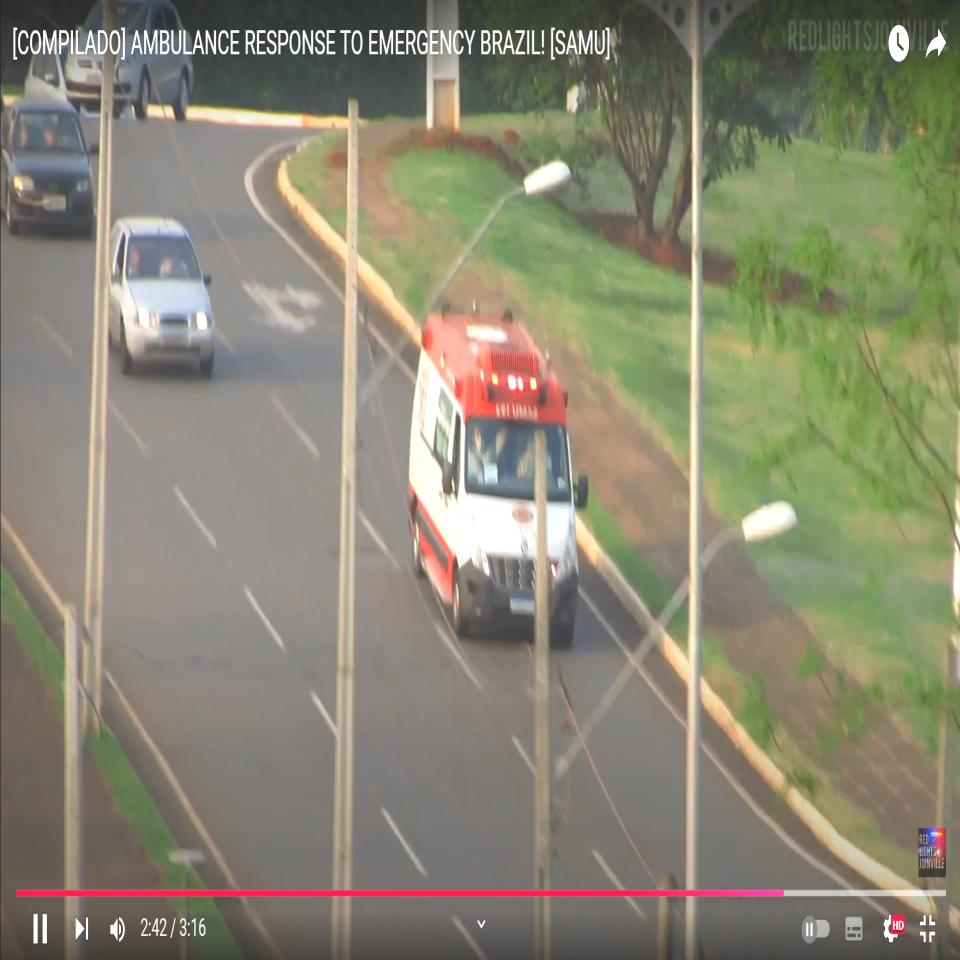ambulancia: (407, 296, 592, 657)
